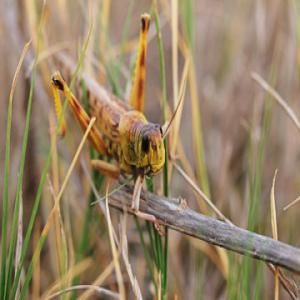locust: (43, 34, 211, 179)
